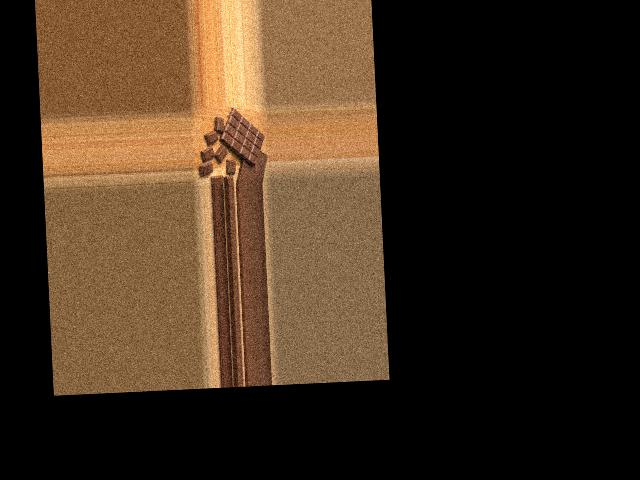chocolate: (216, 108, 266, 167)
